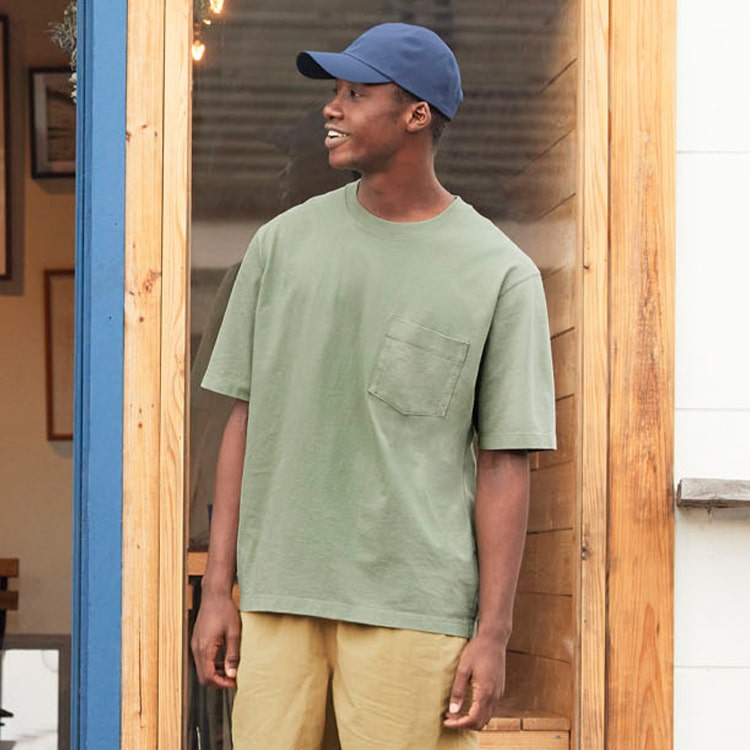round-necked tshirt: (202, 179, 572, 632)
